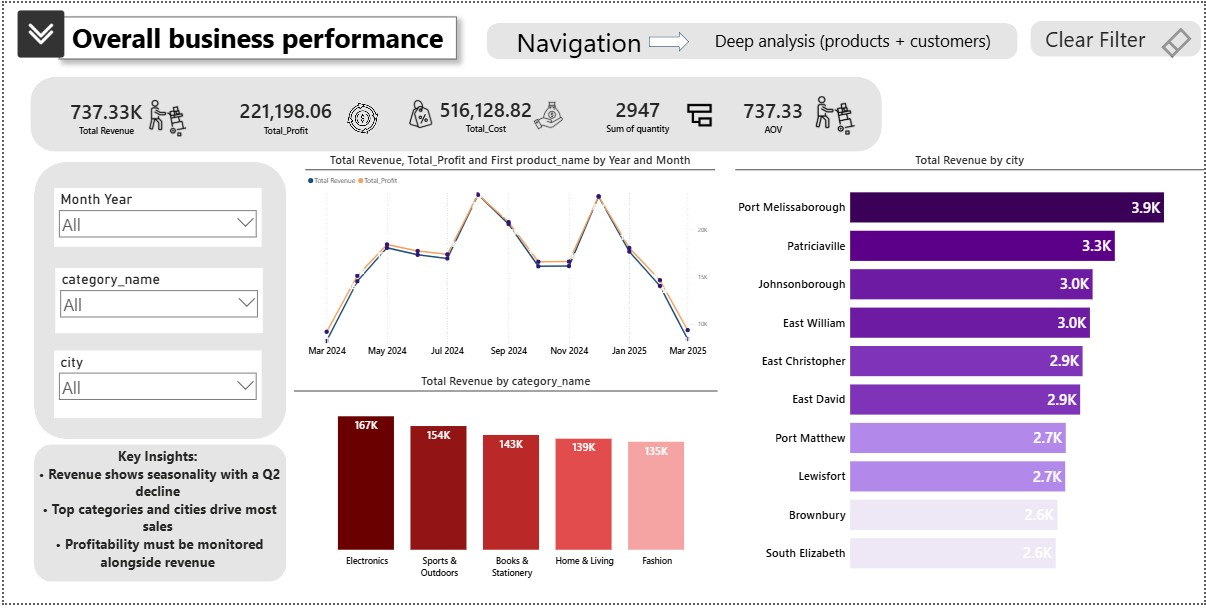

This screenshot's page, from the dashboard's own definition file:
{"tool":"powerbi","page":{"name":"Overall business performance","canvas":[2400,1200],"ordinal":0},"visuals":[{"type":"shape","box":[53.3,146.7,1703.3,150],"z":0},{"type":"image","box":[280,187.5,95,85],"z":1000},{"type":"image","box":[672.5,187.5,90,85],"z":2000},{"type":"card","fields":{"Values":["online_retail_data.Total Revenue"]},"box":[82.5,167.5,245,120],"z":3000},{"type":"image","box":[787.5,182.5,92.5,80],"z":4000},{"type":"card","fields":{"Values":["online_retail_data.Total_Profit"]},"box":[455,167.5,217.5,117.5],"z":5000},{"type":"image","box":[1042.5,182.5,92.5,82.5],"z":6000},{"type":"image","box":[1355,190,72.5,67.5],"z":7000},{"type":"card","fields":{"Values":["Sum(online_retail_data.quantity)"]},"box":[1135,162.5,265,120],"z":8000},{"type":"textbox","box":[110,27.5,795,85],"z":9000},{"type":"image","box":[17.7,11.1,112.8,103.9],"z":10000},{"type":"lineChart","fields":{"Y":["online_retail_data.Total Revenue"],"Y2":["online_retail_data.Total_Profit"],"Category":["online_retail_data.order_date.Variation.Date Hierarchy.Year","online_retail_data.order_date.Variation.Date Hierarchy.Month"]},"box":[602.5,297.5,820,420],"z":11000},{"type":"clusteredColumnChart","fields":{"Category":["online_retail_data.category_name"],"Y":["online_retail_data.Total Revenue"]},"box":[580,740,847.5,417.5],"z":12000},{"type":"clusteredBarChart","fields":{"Y":["online_retail_data.Total Revenue"],"Category":["online_retail_data.city"]},"box":[1462.5,297.5,937.5,870],"z":13000},{"type":"shape","box":[964.5,40.9,1062.5,72.5],"z":14000},{"type":"actionButton","title":"Product & Cost Analysis","box":[1390.8,21.7,615,102.5],"z":15000},{"type":"actionButton","box":[970.1,38.4,360,76.7],"z":16000},{"type":"card","fields":{"Values":["online_retail_data.AOV"]},"box":[1395,165,287.5,120],"z":17000},{"type":"image","box":[1612.5,180,100,90],"z":18000},{"type":"shape","box":[60,882.5,505,275],"z":19000},{"type":"shape","box":[1290.1,58.4,80,40],"z":20000},{"type":"actionButton","box":[2310.1,45,85,70],"z":21000},{"type":"textbox","box":[50,882.5,515,285],"z":22000},{"type":"shape","box":[60,317.5,505,555],"z":23000},{"type":"slicer","fields":{"Values":["online_retail_data.Month Year"]},"box":[100,370,415,117.5],"z":24000},{"type":"shape","box":[2052.6,35,342.5,72.5],"z":25000},{"type":"slicer","fields":{"Values":["online_retail_data.category_name"]},"box":[102.5,530,415,130],"z":26000},{"type":"slicer","fields":{"Values":["online_retail_data.city"]},"box":[100,695,415,135],"z":27000},{"type":"textbox","box":[2077.6,37.5,237.5,77.5],"z":28000},{"type":"card","fields":{"Values":["online_retail_data.Total_Cost"]},"box":[862.5,162.5,202.5,120],"z":29000}]}

Visuals, with their boxes in screenshot pixels (x1, y1, x2, y2), scaled from the page's 2400x1200 canvas onto the 1206x608 screenshot:
shape: crop(27, 74, 883, 150)
image: crop(141, 95, 188, 138)
image: crop(338, 95, 383, 138)
card - online_retail_data.Total Revenue: crop(41, 85, 165, 146)
image: crop(396, 92, 442, 133)
card - online_retail_data.Total_Profit: crop(229, 85, 338, 144)
image: crop(524, 92, 570, 134)
image: crop(681, 96, 717, 130)
card - Sum(online_retail_data.quantity): crop(570, 82, 703, 143)
textbox: crop(55, 14, 455, 57)
image: crop(9, 6, 66, 58)
lineChart - online_retail_data.Total Revenue x online_retail_data.Total_Profit: crop(303, 151, 715, 364)
clusteredColumnChart - online_retail_data.category_name x online_retail_data.Total Revenue: crop(291, 375, 717, 586)
clusteredBarChart - online_retail_data.Total Revenue x online_retail_data.city: crop(735, 151, 1205, 592)
shape: crop(485, 21, 1019, 57)
"Product & Cost Analysis" actionButton: crop(699, 11, 1008, 63)
actionButton: crop(487, 19, 668, 58)
card - online_retail_data.AOV: crop(701, 84, 845, 144)
image: crop(810, 91, 861, 137)
shape: crop(30, 447, 284, 586)
shape: crop(648, 30, 688, 50)
actionButton: crop(1161, 23, 1204, 58)
textbox: crop(25, 447, 284, 592)
shape: crop(30, 161, 284, 442)
slicer - online_retail_data.Month Year: crop(50, 187, 259, 247)
shape: crop(1031, 18, 1204, 54)
slicer - online_retail_data.category_name: crop(52, 269, 260, 334)
slicer - online_retail_data.city: crop(50, 352, 259, 421)
textbox: crop(1044, 19, 1163, 58)
card - online_retail_data.Total_Cost: crop(433, 82, 535, 143)
